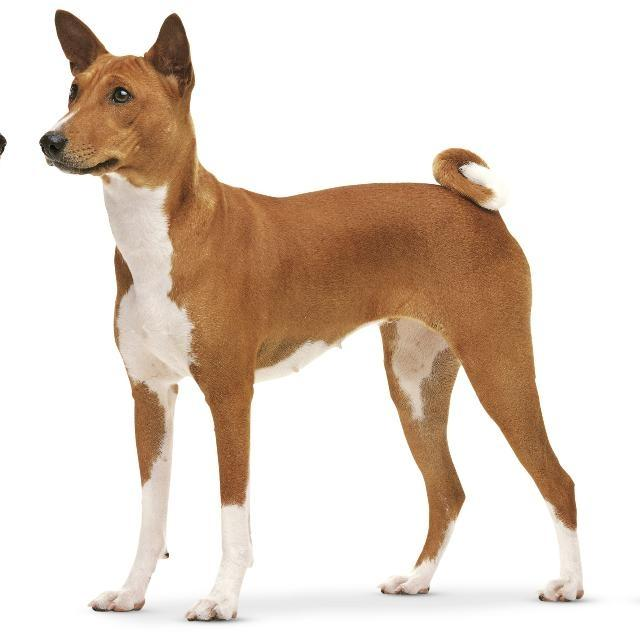dog: (24, 5, 238, 192), (0, 4, 19, 191)
